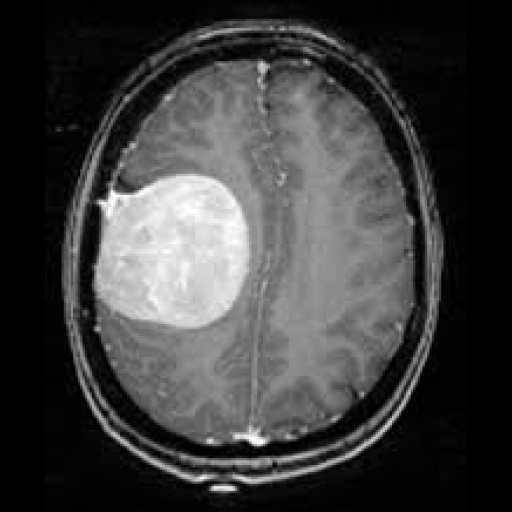tumor: (92, 174, 251, 331)
